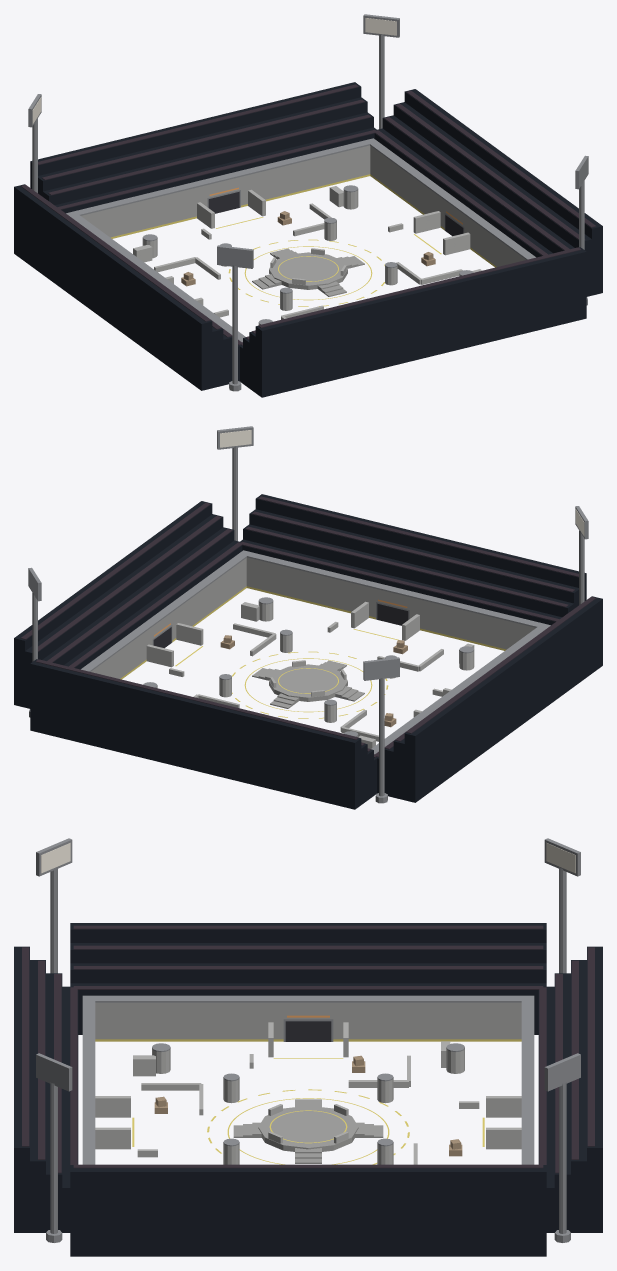
Rendered from arena.glb.
3 renders of one model, top to bottom at view 1: azimuth 30°, elevation 25°; view 2: azimuth 150°, elevation 25°; view 3: azimuth 270°, elevation 25°, orthographic. The views are drawn at different scales.
Visible parts, largest first — view 1: arena_stands, arena_cmu, arena_steel, arena_concrete, arena_dais, arena_lines, arena_dark, arena_glow; view 2: arena_stands, arena_cmu, arena_steel, arena_concrete, arena_dais, arena_lines, arena_dark, arena_glow; view 3: arena_stands, arena_steel, arena_cmu, arena_concrete, arena_dais, arena_lines, arena_glow, arena_dark, arena_wood.
Part boxes in pixels (x1,y1,x2,y2): arena_stands: [14, 82, 602, 397]; arena_cmu: [81, 145, 525, 266]; arena_steel: [28, 14, 588, 391]; arena_concrete: [133, 186, 481, 324]; arena_dais: [252, 248, 364, 296]; arena_lines: [110, 174, 496, 306]; arena_dark: [208, 191, 463, 236]; arena_glow: [32, 18, 396, 124]; arena_stands: [14, 494, 602, 809]; arena_cmu: [91, 557, 535, 678]; arena_steel: [28, 426, 588, 803]; arena_concrete: [146, 601, 474, 748]; arena_dais: [252, 660, 364, 708]; arena_lines: [120, 586, 506, 718]; arena_dark: [153, 603, 408, 648]; arena_glow: [220, 430, 584, 536]; arena_stands: [14, 923, 602, 1256]; arena_steel: [36, 838, 580, 1242]; arena_cmu: [95, 1002, 521, 1039]; arena_concrete: [95, 1022, 521, 1164]; arena_dais: [233, 1099, 383, 1163]; arena_lines: [95, 1039, 521, 1164]; arena_glow: [41, 843, 575, 873]; arena_dark: [285, 1021, 331, 1041]; arena_wood: [154, 1055, 462, 1156].
Size of what is drawn, in the model's own units: 88 by 29.5 by 88.
